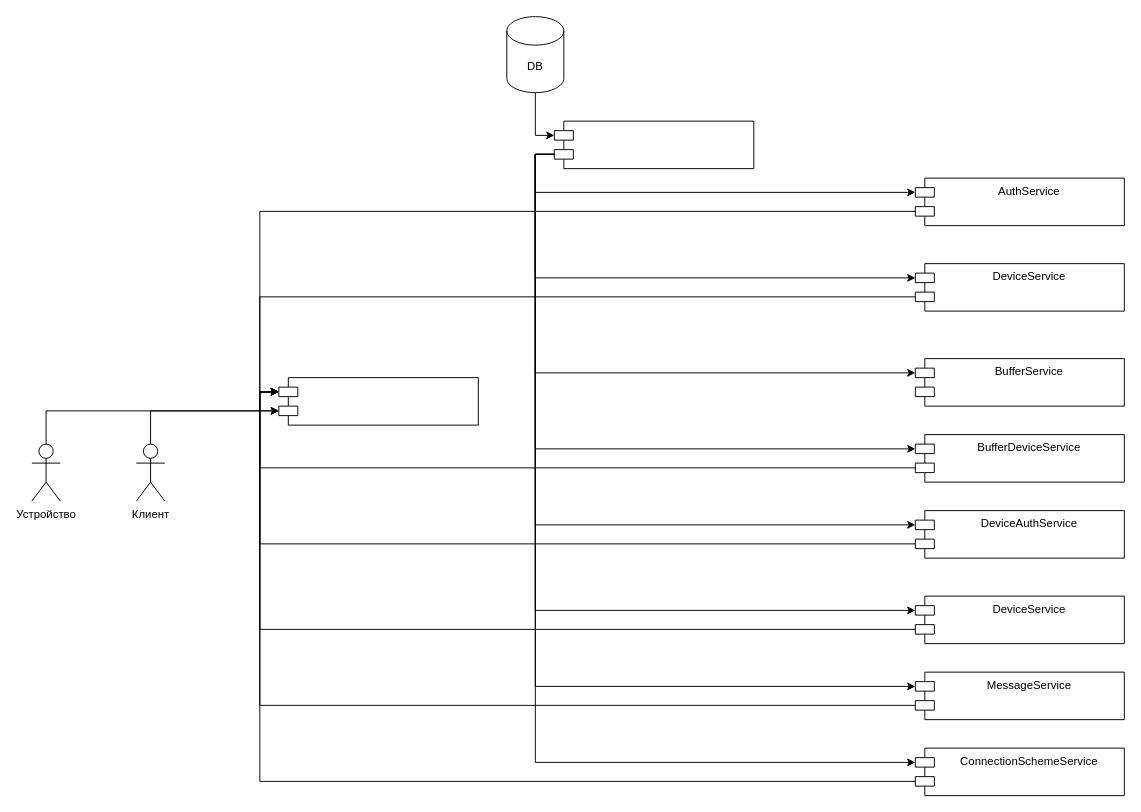
Some shapes in this 1141 by 812 pixel diagram are drawn without their labels. Each missing label, with the box of its shape:
DataAccess: (553, 120, 754, 169)
UI: (278, 377, 478, 425)
